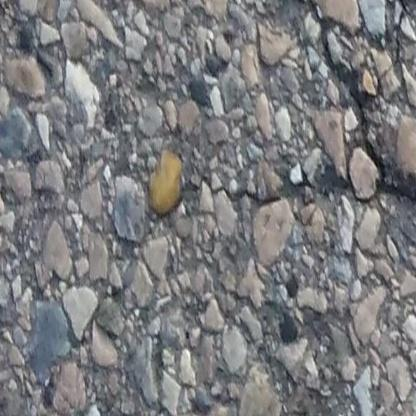Cracks: (200, 0, 416, 217), (386, 0, 414, 64)
